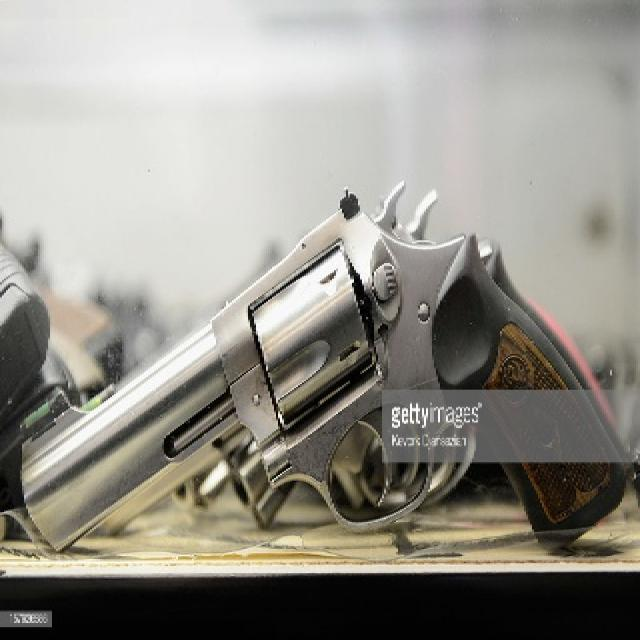weapon: (8, 177, 632, 554)
